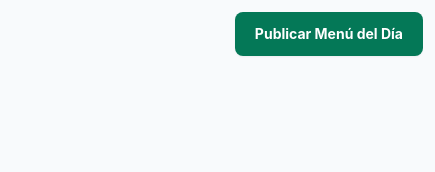
Scenario: PublishMenuButton › blocks publication and shows error when hasActiveItems is false
Click the button "Publicar Menú del Día" at (329, 34), box [235,12,423,56]
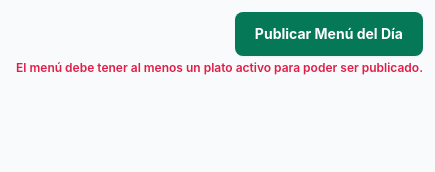
Expected: the text with test id "publish-error" reads "El menú debe tener al menos un plato activo para poder ser publicado.", [16,60,423,75]
